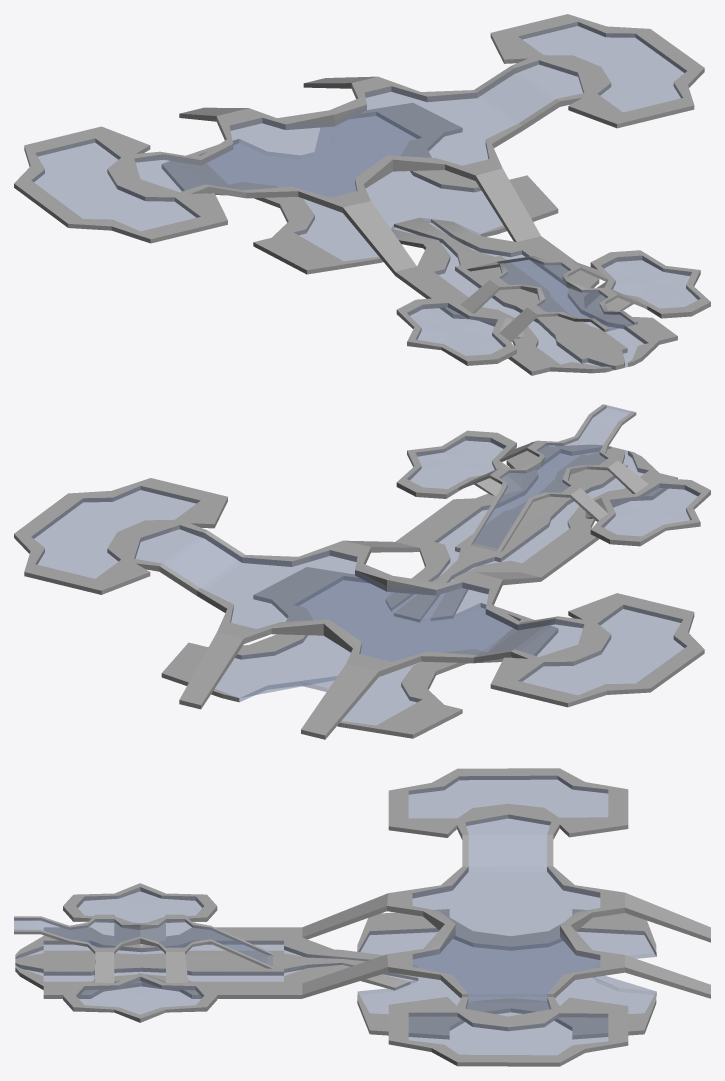
The model's file is Noah_Lv1_MainPlatform.fbx.
The picture shows the model from 3 angles, top to bottom: view 1: azimuth 30°, elevation 25°; view 2: azimuth 150°, elevation 25°; view 3: azimuth 270°, elevation 25°; orthographic projection. The views are drawn at different scales.
Visible parts, largest first — view 1: CentralPlatform_Upper_Glass, CentralPlatform_Lower_Glass, CentralPlatform_IslandLeft, CentralPlatform_IslandRight, CentralPlatform_Lower_Rim, BasePlatform_Lower_OuterRim, BasePlatform_Lower_InnerRim, CentralPlatform_Upper_Rim2, BasePlatform_Lower_Glass, CentralPlatform_Upper_Rim1, BasePlatform_Upper_Rim, BasePlatform_Upper_Glass (+7 smaller); view 2: CentralPlatform_Upper_Glass, CentralPlatform_Lower_Glass, CentralPlatform_IslandRight, CentralPlatform_IslandLeft, CentralPlatform_Lower_Rim, BasePlatform_Lower_OuterRim, BasePlatform_Lower_InnerRim, BasePlatform_Upper_Glass, CentralPlatform_Upper_Rim1, BasePlatform_Lower_Glass, CentralPlatform_Upper_Rim2, BasePlatform_Upper_Rim (+7 smaller); view 3: CentralPlatform_Upper_Glass, CentralPlatform_Lower_Glass, CentralPlatform_IslandRight, CentralPlatform_IslandLeft, BasePlatform_Lower_OuterRim, CentralPlatform_Lower_Rim, BasePlatform_Lower_InnerRim, BasePlatform_Upper_Rim, BasePlatform_Upper_Glass, BasePlatform_Lower_Glass, CentralPlatform_Upper_Rim1, CentralPlatform_Upper_Rim2 (+8 smaller).
Boxes of the visible parts, x1,y1,x2,y2 form: CentralPlatform_Upper_Glass: [135, 60, 583, 197]; CentralPlatform_Lower_Glass: [199, 115, 502, 261]; CentralPlatform_IslandLeft: [14, 126, 227, 243]; CentralPlatform_IslandRight: [490, 14, 704, 128]; CentralPlatform_Lower_Rim: [161, 103, 558, 274]; BasePlatform_Lower_OuterRim: [391, 219, 677, 375]; BasePlatform_Lower_InnerRim: [394, 217, 627, 369]; CentralPlatform_Upper_Rim2: [134, 58, 538, 165]; BasePlatform_Lower_Glass: [392, 218, 647, 370]; CentralPlatform_Upper_Rim1: [180, 93, 584, 212]; BasePlatform_Upper_Rim: [460, 256, 647, 342]; BasePlatform_Upper_Glass: [478, 257, 633, 330]; CentralPlatform_Upper_Glass: [134, 525, 583, 661]; CentralPlatform_Lower_Glass: [215, 576, 520, 725]; CentralPlatform_IslandRight: [14, 478, 227, 594]; CentralPlatform_IslandLeft: [490, 593, 704, 707]; CentralPlatform_Lower_Rim: [161, 567, 558, 738]; BasePlatform_Lower_OuterRim: [386, 442, 677, 620]; BasePlatform_Lower_InnerRim: [394, 447, 627, 621]; BasePlatform_Upper_Glass: [471, 405, 631, 550]; CentralPlatform_Upper_Rim1: [179, 523, 584, 630]; BasePlatform_Lower_Glass: [392, 447, 648, 618]; CentralPlatform_Upper_Rim2: [134, 559, 537, 676]; BasePlatform_Upper_Rim: [458, 404, 648, 552]; CentralPlatform_Upper_Glass: [412, 814, 600, 1016]; CentralPlatform_Lower_Glass: [358, 928, 656, 1014]; CentralPlatform_IslandRight: [388, 997, 628, 1066]; CentralPlatform_IslandLeft: [388, 768, 628, 837]; BasePlatform_Lower_OuterRim: [15, 927, 410, 998]; CentralPlatform_Lower_Rim: [357, 909, 656, 1039]; BasePlatform_Lower_InnerRim: [15, 950, 418, 980]; BasePlatform_Upper_Rim: [14, 914, 273, 982]; BasePlatform_Upper_Glass: [14, 918, 272, 966]; BasePlatform_Lower_Glass: [15, 941, 417, 981]; CentralPlatform_Upper_Rim1: [387, 822, 468, 1008]; CentralPlatform_Upper_Rim2: [547, 822, 624, 1009].
Bounding box in the file's own units: 236 × 23.01 × 237.
